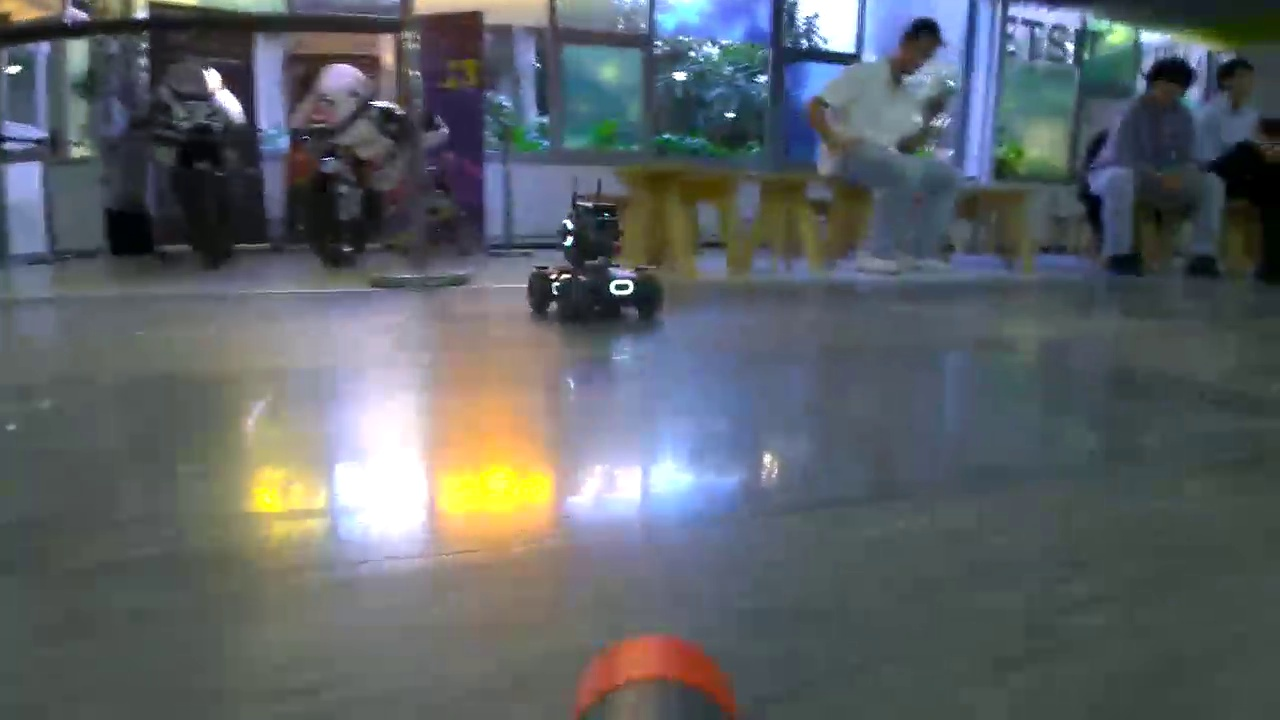robot: (527, 182, 662, 322)
